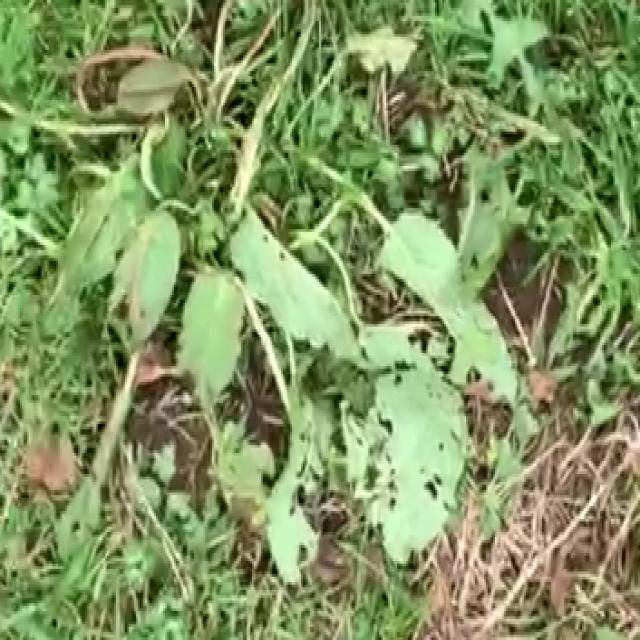organic waste: (38, 5, 560, 588)
